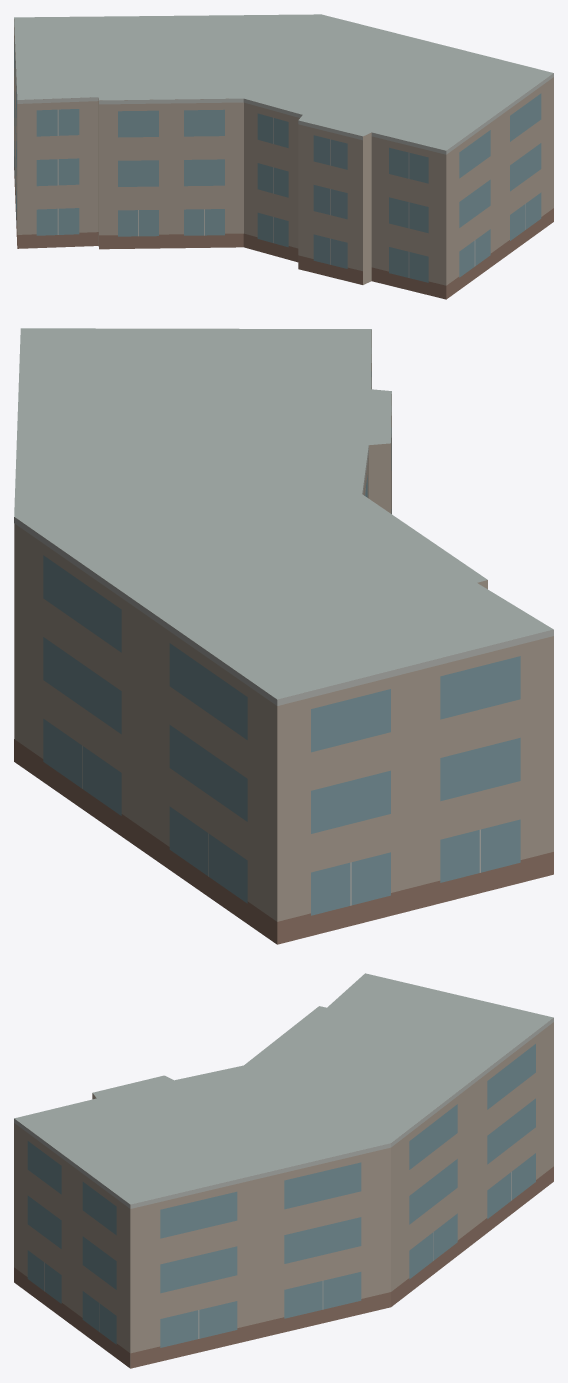
Rendered from survey-upis-32683073.glb.
The picture shows the model from 3 angles, top to bottom: view 1: azimuth 30°, elevation 25°; view 2: azimuth 150°, elevation 25°; view 3: azimuth 270°, elevation 25°; orthographic projection. The views are drawn at different scales.
Parts seen in each view (by area): view 1: survey-upis-32683073.tmp; view 2: survey-upis-32683073.tmp; view 3: survey-upis-32683073.tmp.
Boxes of the visible parts, bbox=[...] form: survey-upis-32683073.tmp: bbox=[14, 14, 553, 299]; survey-upis-32683073.tmp: bbox=[14, 328, 553, 944]; survey-upis-32683073.tmp: bbox=[14, 973, 553, 1368].
Size of the model in its own units: 27.69 by 9.15 by 27.3.
